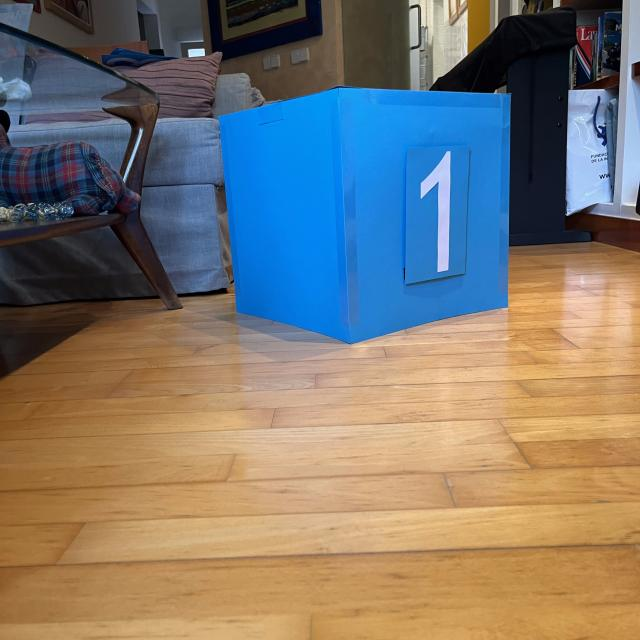box: (213, 81, 514, 346)
